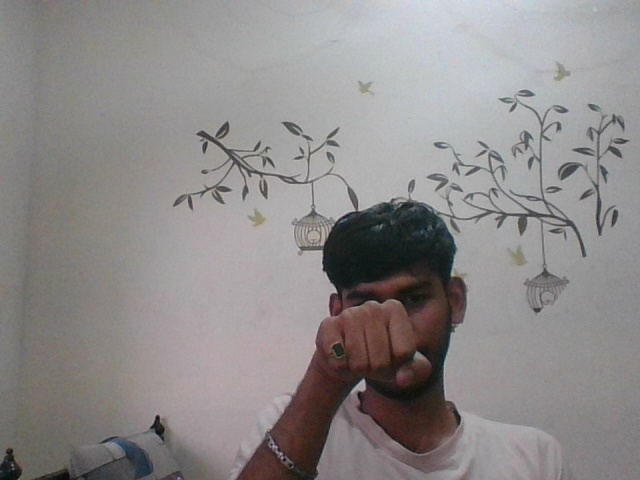Thank You: (300, 300, 457, 396)
